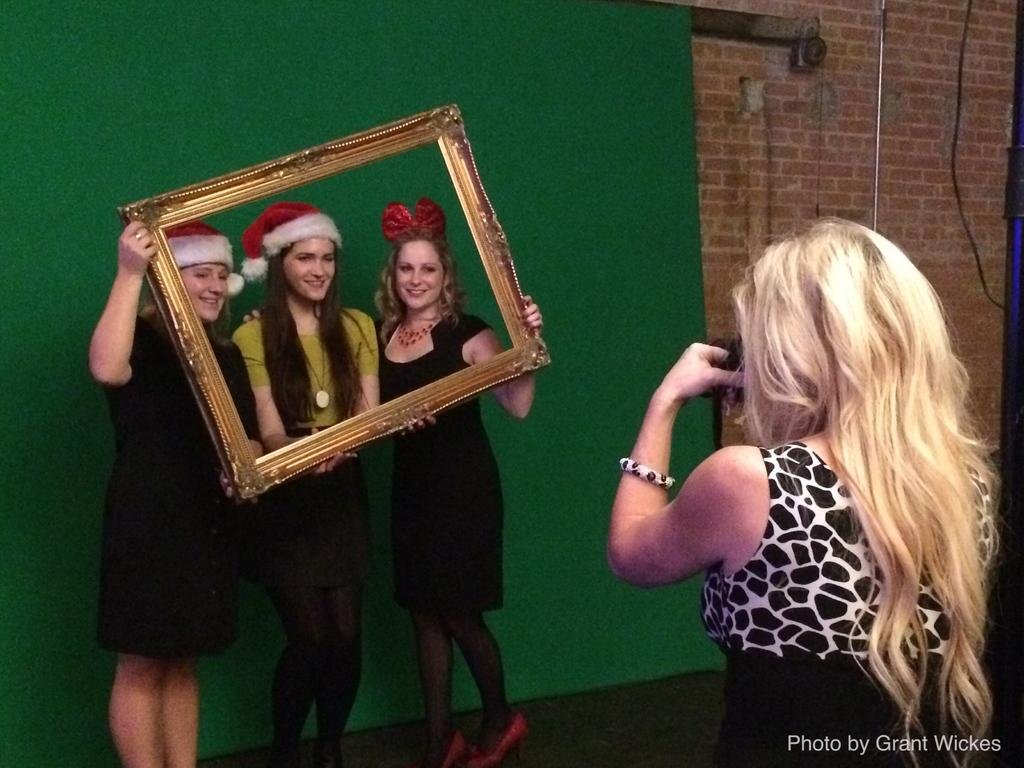Sem Máscara: (280, 232, 333, 300), (391, 237, 441, 309), (176, 262, 227, 323)
